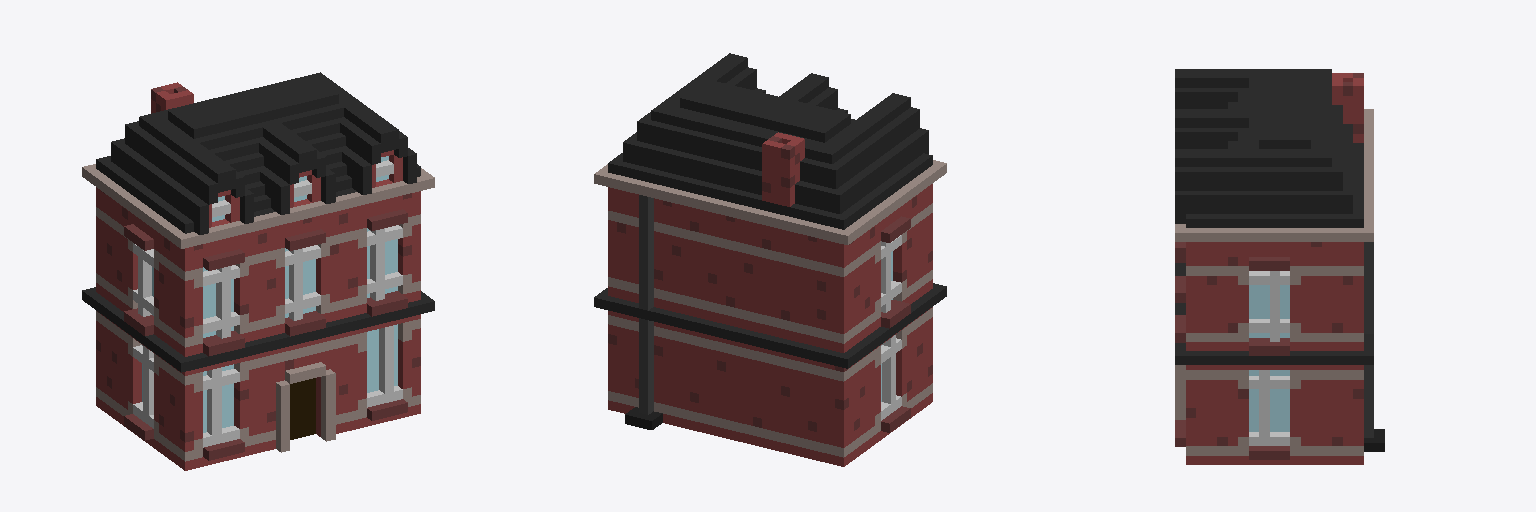
3 renders of one model, left to right at view 1: azimuth 30°, elevation 25°; view 2: azimuth 150°, elevation 25°; view 3: azimuth 270°, elevation 25°, orthographic.
Visible parts, largest first — view 1: Dutch_Single; view 2: Dutch_Single; view 3: Dutch_Single.
Part boxes in pixels (x1,y1,x2,y2): Dutch_Single: (82,72,434,470); Dutch_Single: (594,53,946,466); Dutch_Single: (1175,69,1384,464).
Size of the model in its own units: 28 by 32 by 20.
1 materials, 1 textured.